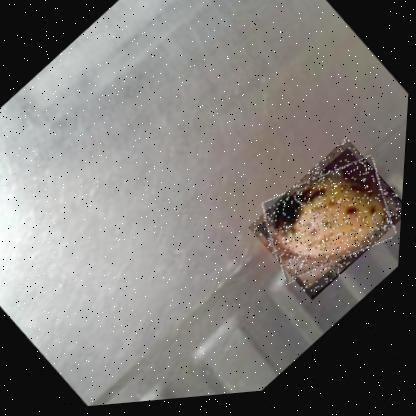mango_rotten: (246, 139, 407, 313)
